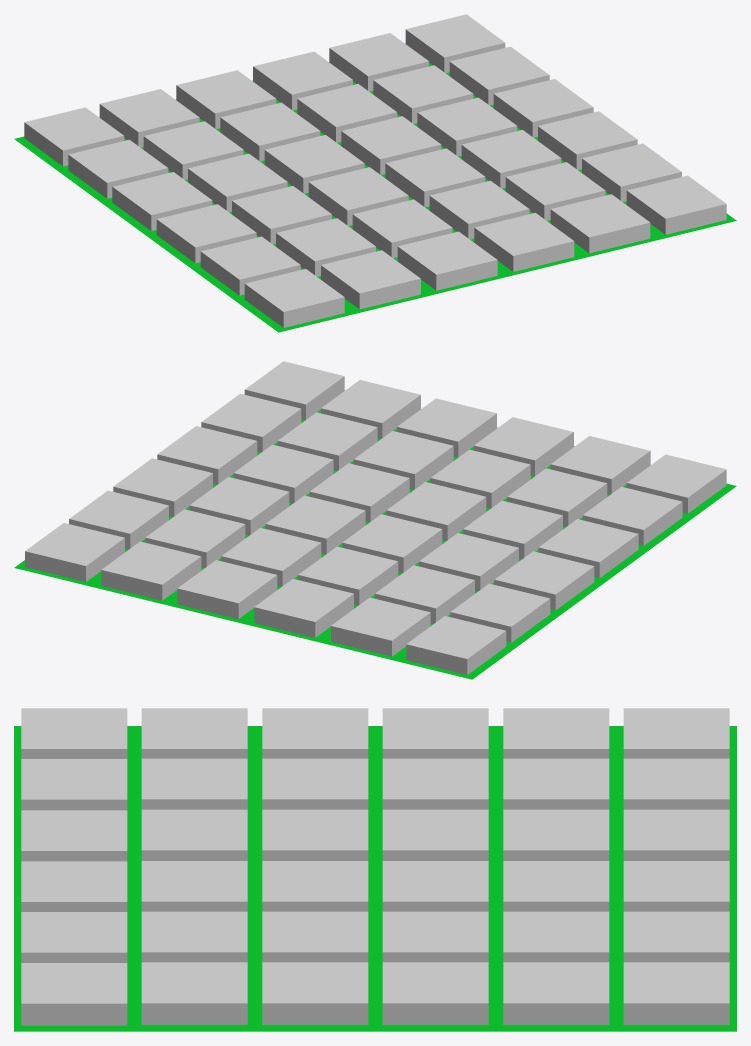
Rendered from 6x6_LED_Panel.fbx.
3 renders of one model, top to bottom at view 1: azimuth 30°, elevation 25°; view 2: azimuth 150°, elevation 25°; view 3: azimuth 270°, elevation 25°, orthographic. The views are drawn at different scales.
Visible parts, largest first — view 1: LED_6x6; view 2: LED_6x6; view 3: LED_6x6.
Boxes of the visible parts, x1,y1,x2,y2 form: LED_6x6: (14, 14, 736, 332); LED_6x6: (14, 361, 736, 679); LED_6x6: (14, 708, 736, 1031).
Bounding box in the file's own units: 600 × 21 × 600.
